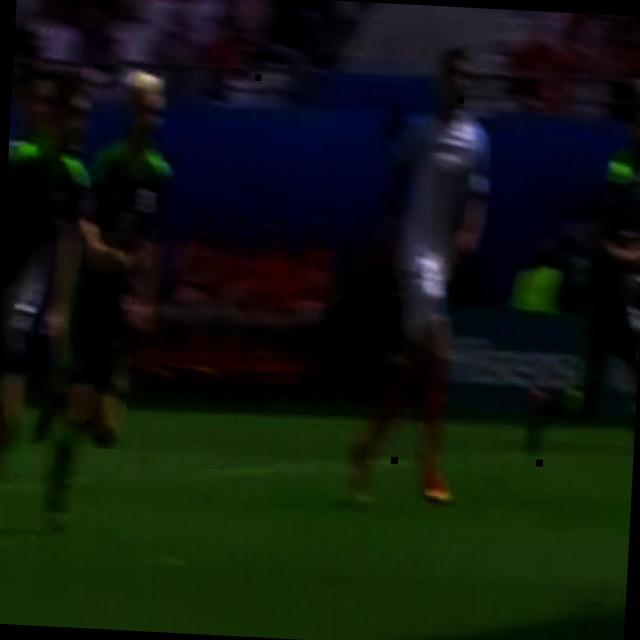player-white: (351, 45, 501, 513), (51, 62, 179, 554), (521, 80, 640, 511), (0, 85, 95, 573)
